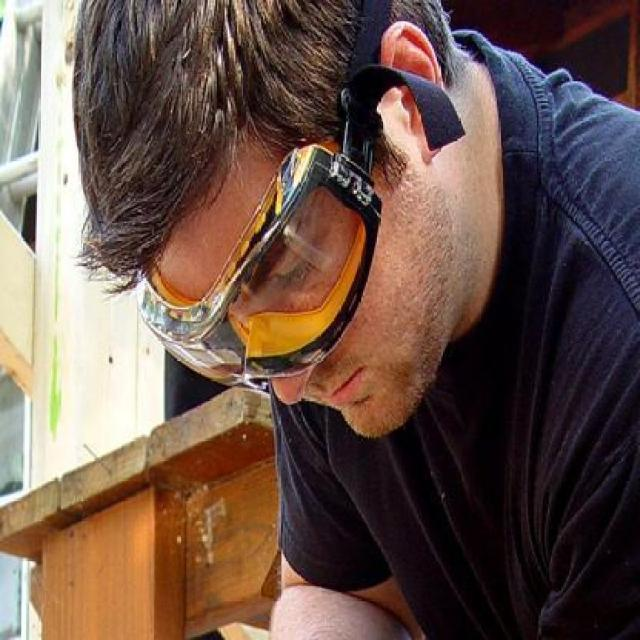face_nomask: (164, 230, 390, 422)
glasses: (130, 138, 382, 396)
head_nohelmet: (59, 3, 318, 262)
